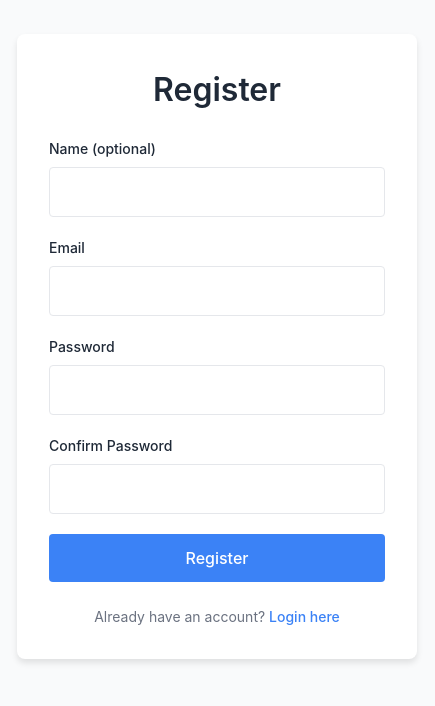
Test: RegisterPage › form validation › should reject weak password on submit
Type "test@example.com" into the field labelled "Email" at (217, 290), box [49,266,385,316]
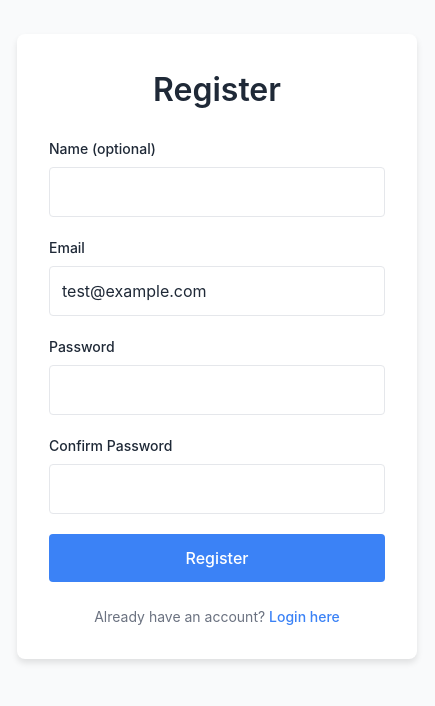
Type "weak" into the password field labelled "Password" at (217, 390), box [49,364,385,414]
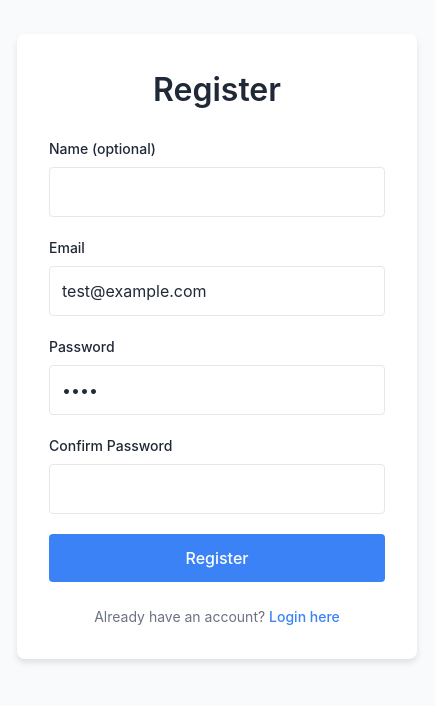
Type "weak" into the password field labelled "Confirm Password" at (217, 488), box [49,464,385,514]
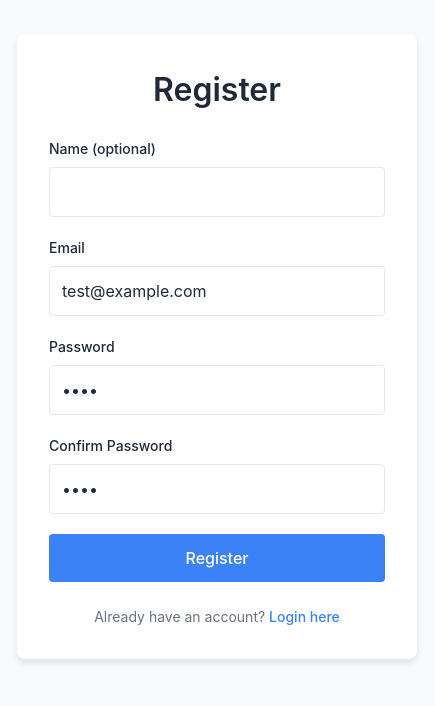
Click the button "Register" at (217, 558), box [49,534,385,582]
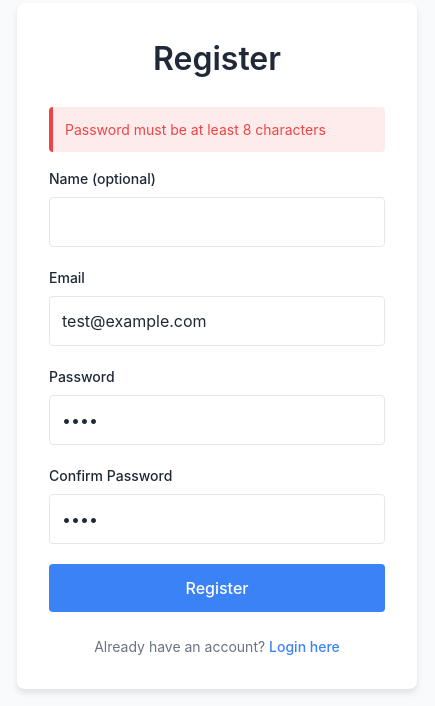
Check: the text "Password must be at least 8 characters" is shown, box [49,107,385,152]
